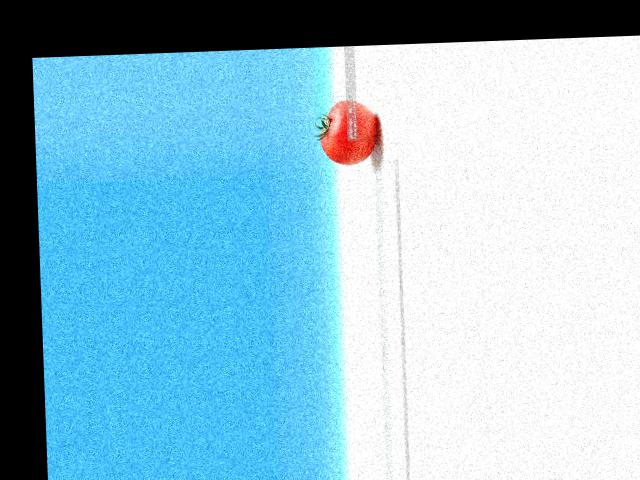tomato: (319, 98, 377, 165)
